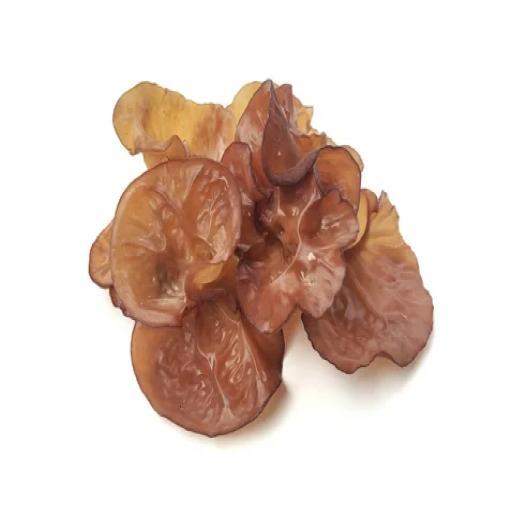mushroom: (82, 70, 443, 440)
